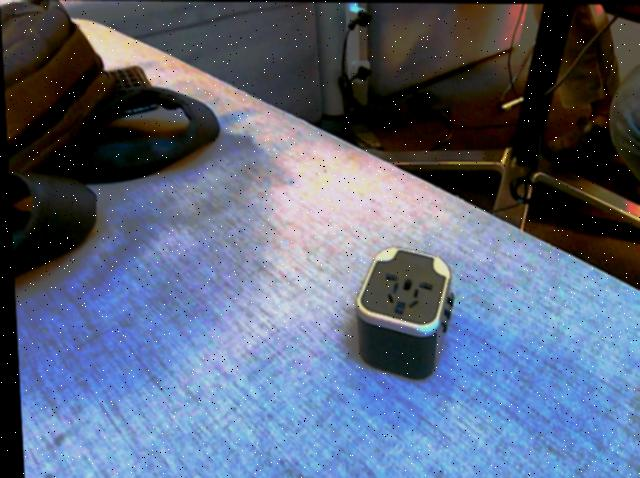adapter: (347, 245, 454, 380)
